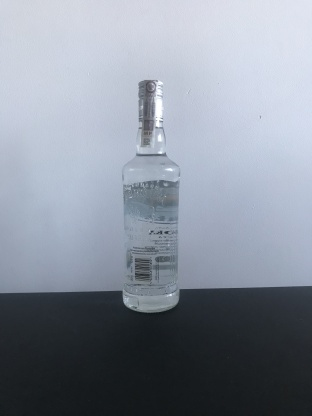nakretka: (135, 75, 166, 124)
